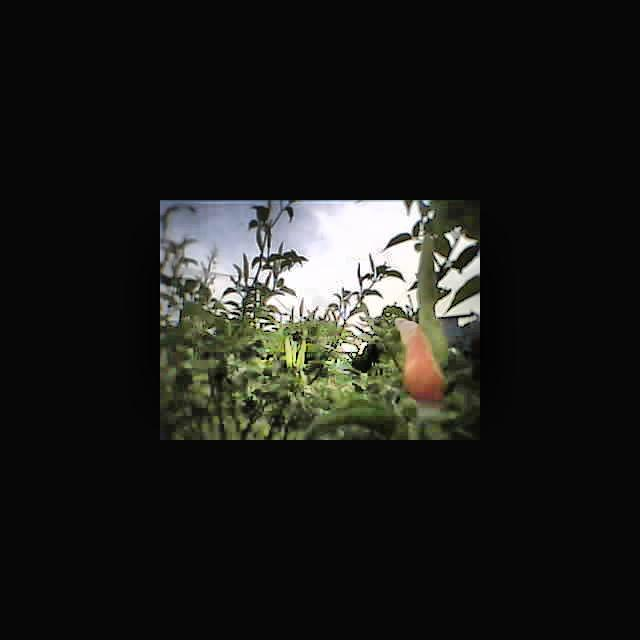Cabai: (398, 318, 440, 399)
